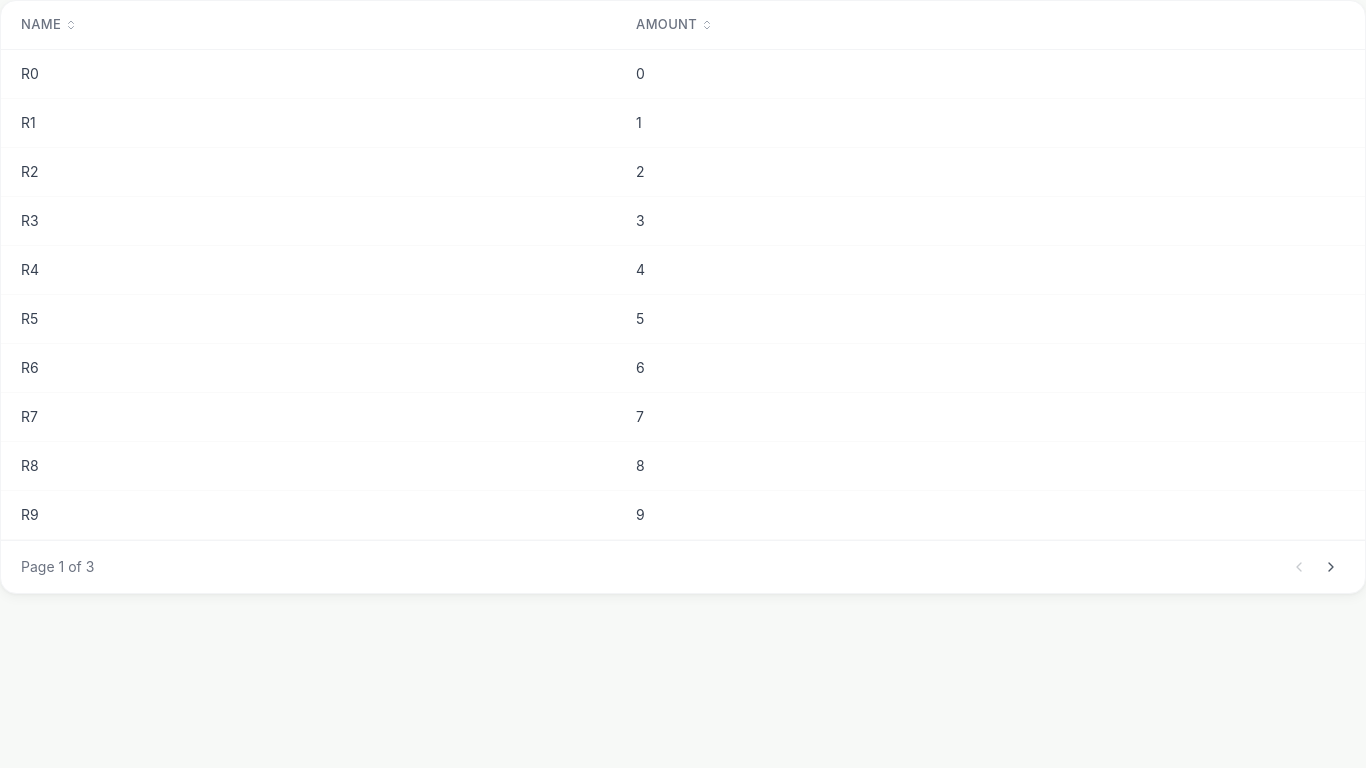
Test: DataTable › pagination buttons disable at the page boundaries; next advances
Expected: the button named "Previous page" is disabled, top-left (1285, 552), bottom-right (1313, 580)
Expected: the text "Page 1 of 3" is shown, top-left (21, 556), bottom-right (94, 576)
Click the button named "Next page".
click(1331, 566)  # box top-left (1317, 552), bottom-right (1345, 580)
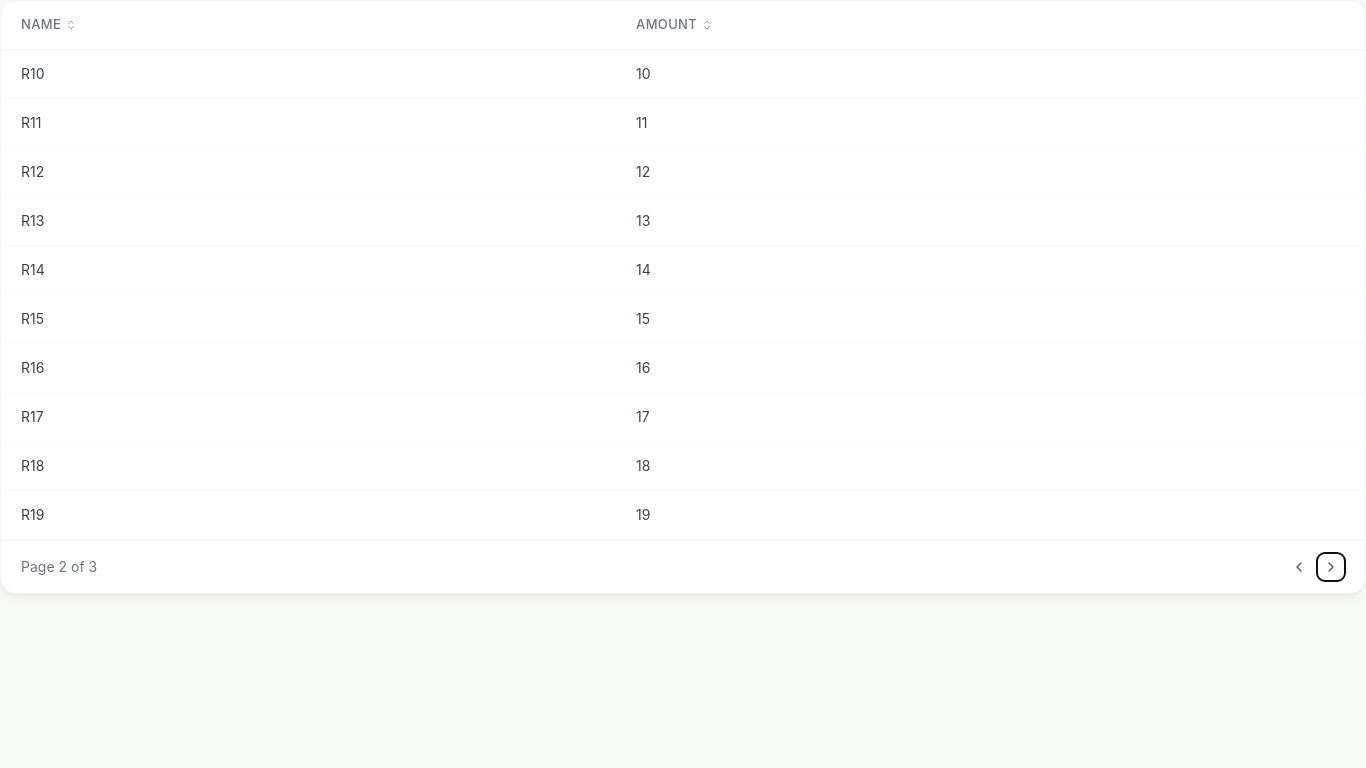
Expected: the button named "Previous page" is enabled, top-left (1285, 552), bottom-right (1313, 580)
Now the text "Page 2 of 3" is shown, box top-left (21, 556), bottom-right (97, 576)
Click the button named "Next page".
click(1331, 566)  # box top-left (1317, 552), bottom-right (1345, 580)
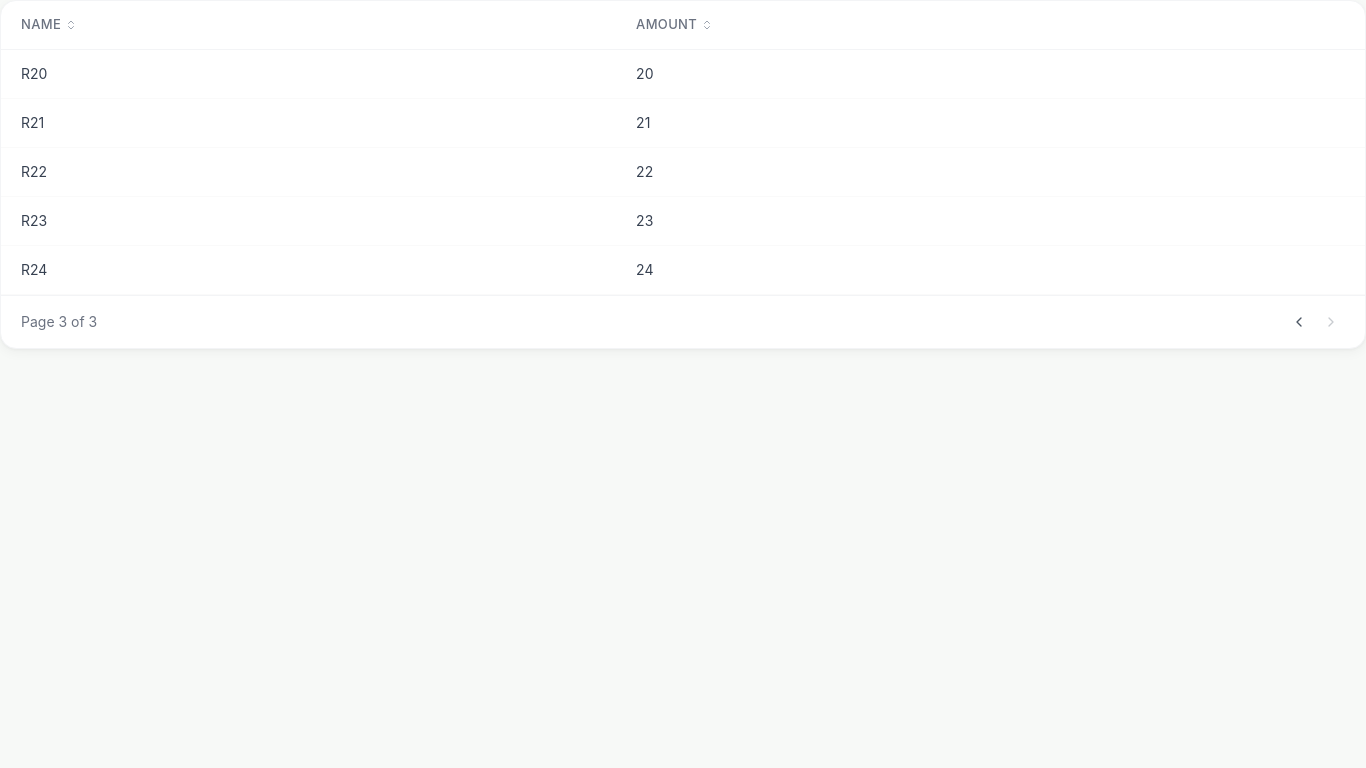
Expected: the button named "Next page" is disabled, top-left (1317, 308), bottom-right (1345, 336)
Now the text "Page 3 of 3" is shown, box top-left (21, 312), bottom-right (97, 332)
